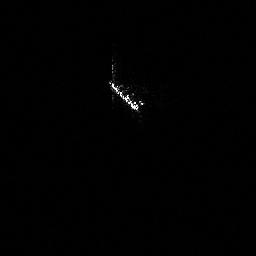ship: (104, 76, 146, 114)
